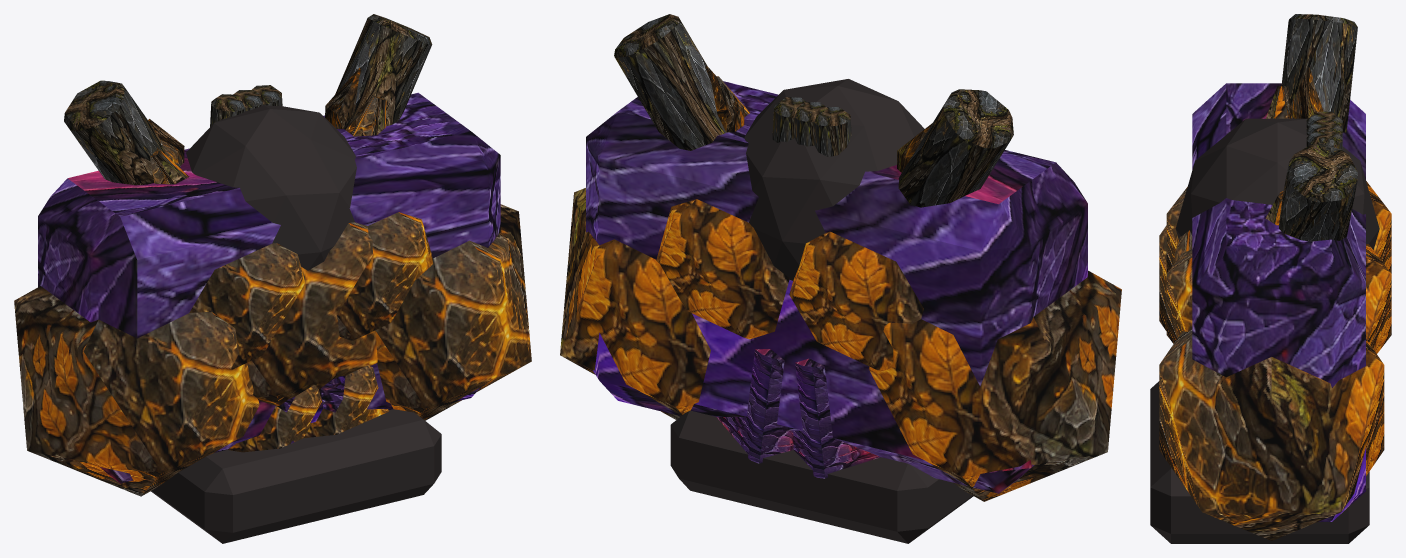
Rendered from ironroot_colossus_phase1.glb.
The picture shows the model from 3 angles, left to right: view 1: azimuth 30°, elevation 25°; view 2: azimuth 150°, elevation 25°; view 3: azimuth 270°, elevation 25°; orthographic projection. The views are drawn at different scales.
Parts seen in each view (by area): view 1: ironroot_colossus_Low; view 2: ironroot_colossus_Low; view 3: ironroot_colossus_Low.
Boxes of the visible parts, x1,y1,x2,y2 form: ironroot_colossus_Low: (14,14,531,543); ironroot_colossus_Low: (560,14,1121,543); ironroot_colossus_Low: (1150,14,1391,543).
Size of the model in its own units: 3.84 by 3.12 by 1.63.
4 materials, 3 textured.
